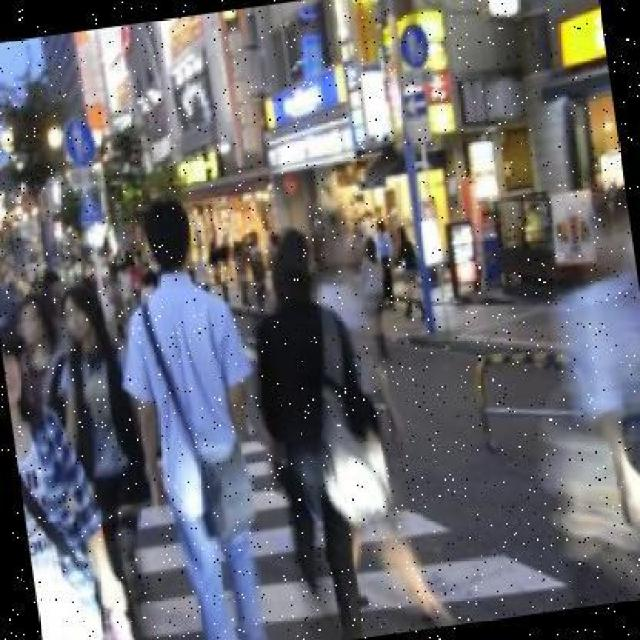Person: (110, 190, 288, 638), (235, 224, 397, 638), (49, 280, 166, 638)
